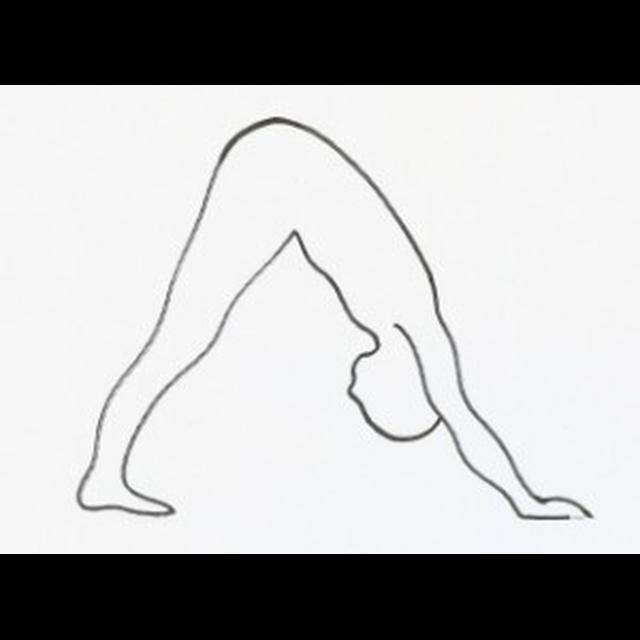Downward-Facing_Dog: (66, 110, 598, 527)
